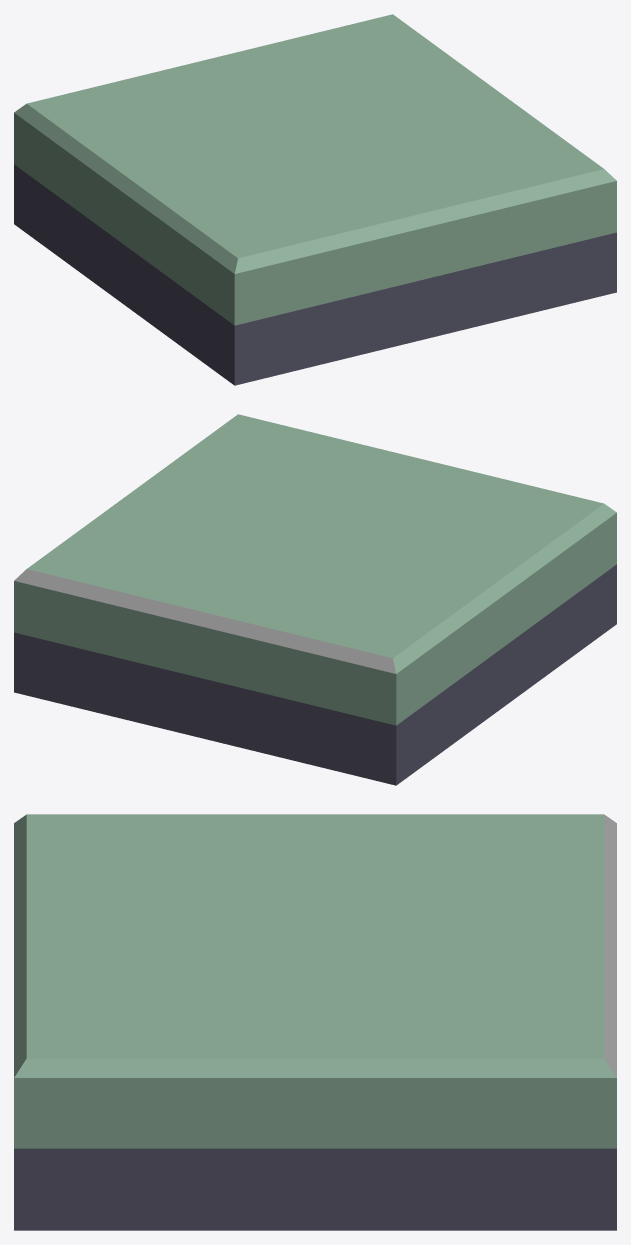
File: middleTile.fbx
3 renders of one model, top to bottom at view 1: azimuth 30°, elevation 25°; view 2: azimuth 150°, elevation 25°; view 3: azimuth 270°, elevation 25°, orthographic. The views are drawn at different scales.
Visible parts, largest first — view 1: middleTile; view 2: middleTile; view 3: middleTile.
Part boxes in pixels (box(x1,y1,x2,y2)): middleTile: box(14, 14, 616, 385); middleTile: box(14, 414, 616, 785); middleTile: box(14, 814, 616, 1230).
Bounding box in the file's own units: 100 × 30.5 × 100.
